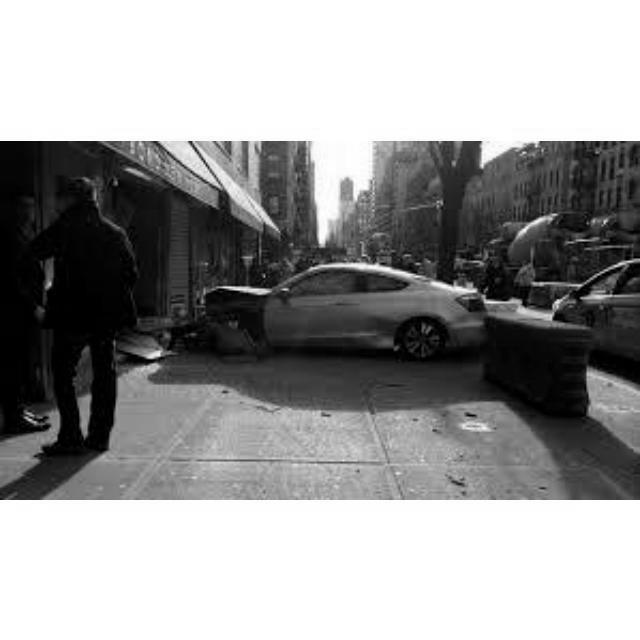doorouter-dent: (362, 293, 402, 348)
